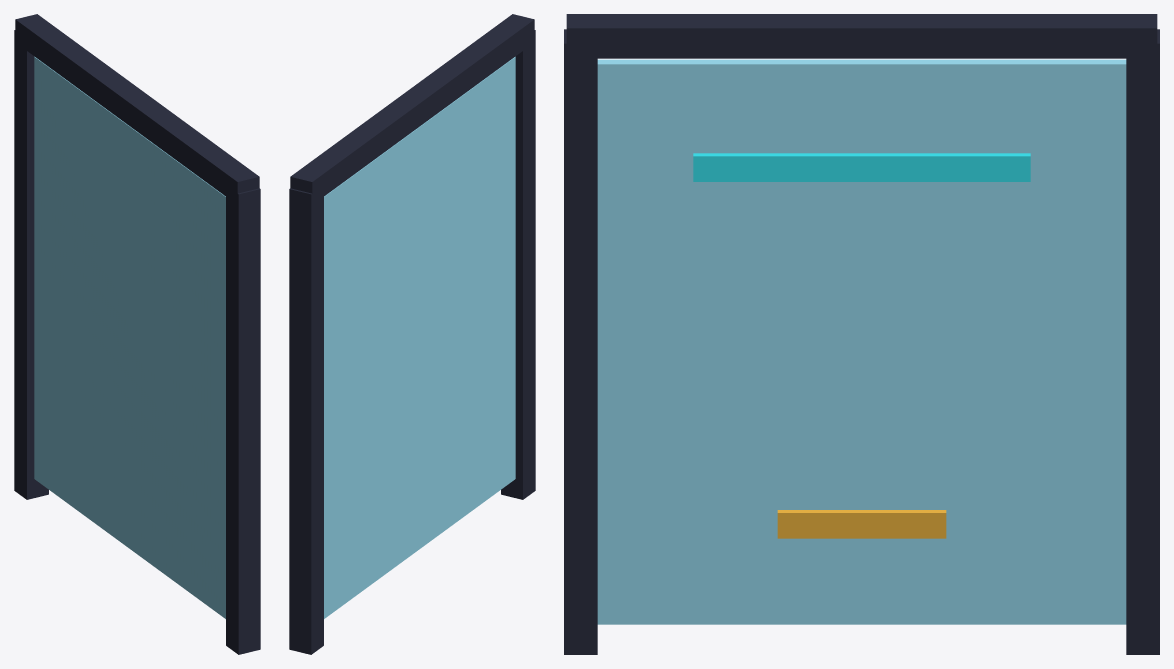
Rendered from pf_vitre.glb.
3 views of the same model, side by side, from view 1: azimuth 30°, elevation 25°; view 2: azimuth 150°, elevation 25°; view 3: azimuth 270°, elevation 25° (orthographic). The views are drawn at different scales.
Visible parts, largest first — view 1: p_box.1630, p_box.1627, p_box.1629, p_box.1628; view 2: p_box.1630, p_box.1628, p_box.1629, p_box.1627; view 3: p_box.1630, p_box.1629, p_box.1628, p_box.1627, p_box.1631, p_box.1632.
Boxes of the visible parts, bbox=[...] form: p_box.1630: bbox=[34, 56, 225, 618]; p_box.1627: bbox=[226, 185, 260, 654]; p_box.1629: bbox=[15, 14, 259, 198]; p_box.1628: bbox=[14, 30, 48, 499]; p_box.1630: bbox=[324, 56, 515, 618]; p_box.1628: bbox=[289, 185, 323, 654]; p_box.1629: bbox=[290, 14, 534, 196]; p_box.1627: bbox=[501, 30, 535, 499]; p_box.1630: bbox=[597, 59, 1126, 624]; p_box.1629: bbox=[566, 14, 1157, 58]; p_box.1628: bbox=[1126, 29, 1159, 654]; p_box.1627: bbox=[564, 29, 597, 654]; p_box.1631: bbox=[693, 153, 1030, 181]; p_box.1632: bbox=[777, 510, 946, 538].
Bounding box in the file's own units: 0.12 × 2.46 × 2.12.
